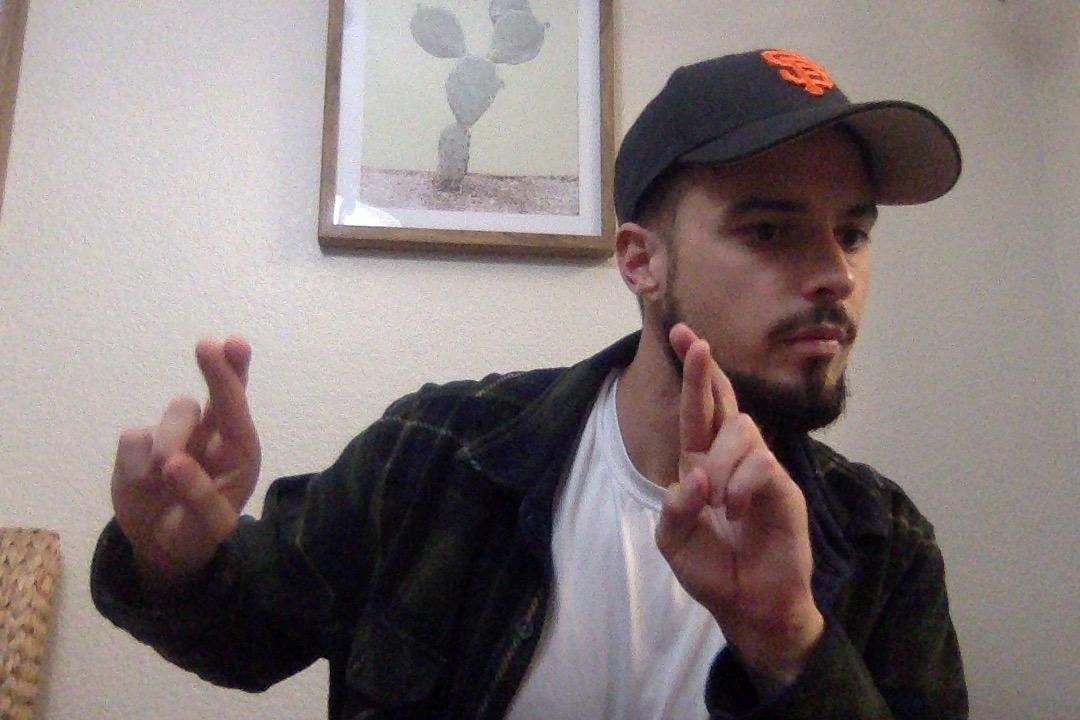Fingers-Crossed: (632, 310, 826, 653), (102, 318, 270, 596)
